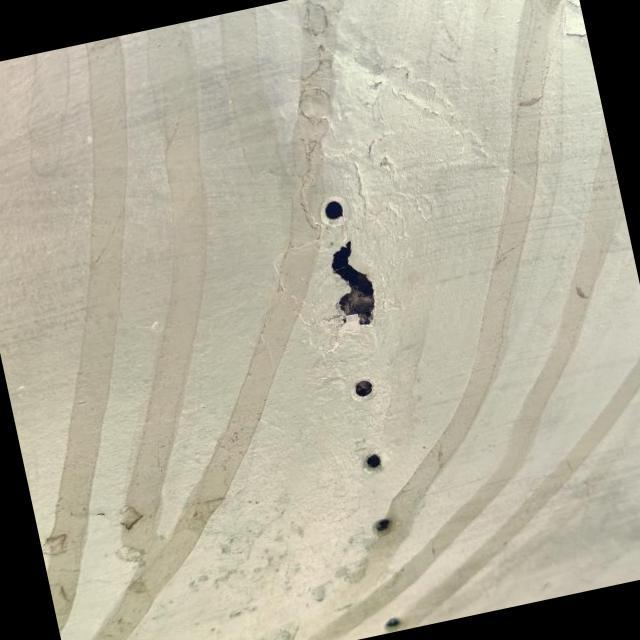Rupture: (292, 210, 413, 357)
